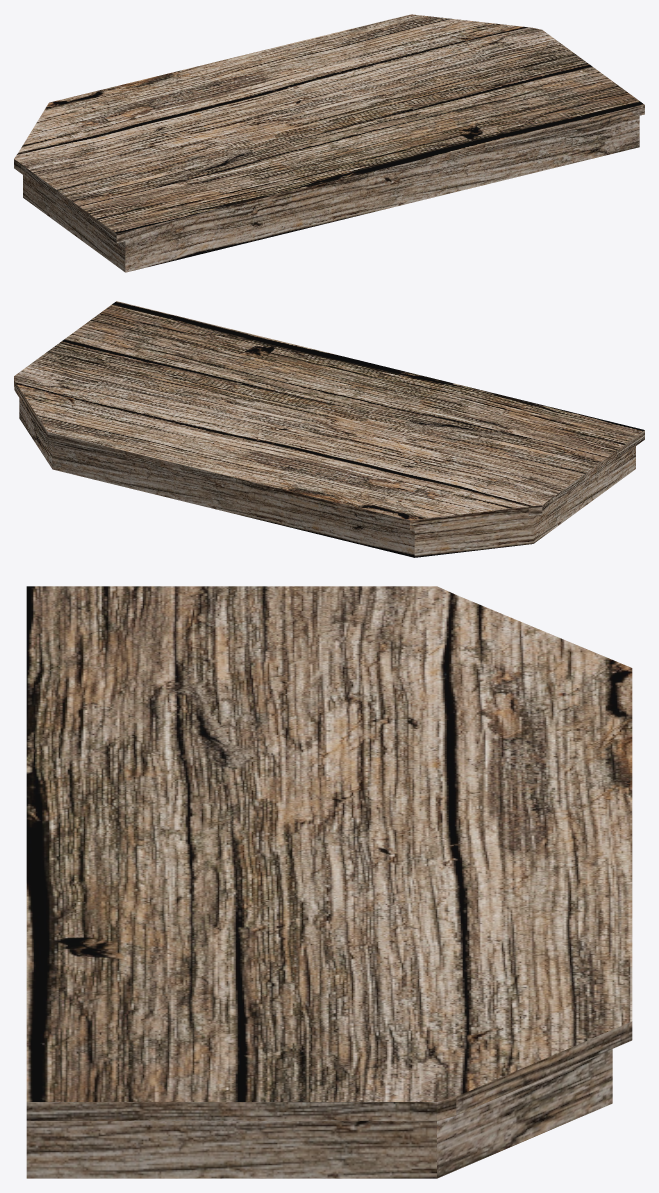
The model's file is stageModel.fbx.
The picture shows the model from 3 angles, top to bottom: view 1: azimuth 30°, elevation 25°; view 2: azimuth 150°, elevation 25°; view 3: azimuth 270°, elevation 25°; orthographic projection. The views are drawn at different scales.
Parts seen in each view (by area): view 1: Plane; view 2: Plane; view 3: Plane.
Boxes of the visible parts, x1,y1,x2,y2 form: Plane: [14, 14, 644, 272]; Plane: [14, 301, 644, 557]; Plane: [26, 586, 632, 1178].
Size of the model in its own units: 813 by 60.27 by 403.
